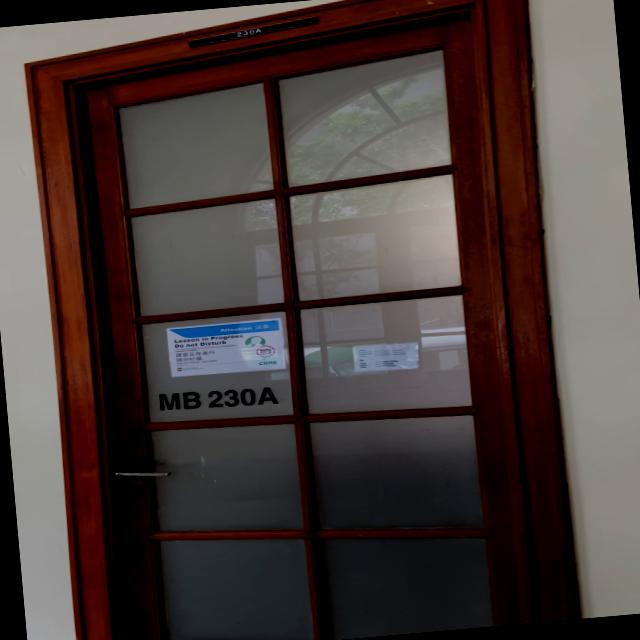room230A: (184, 14, 320, 48)
room230AWindow: (152, 383, 282, 413)
